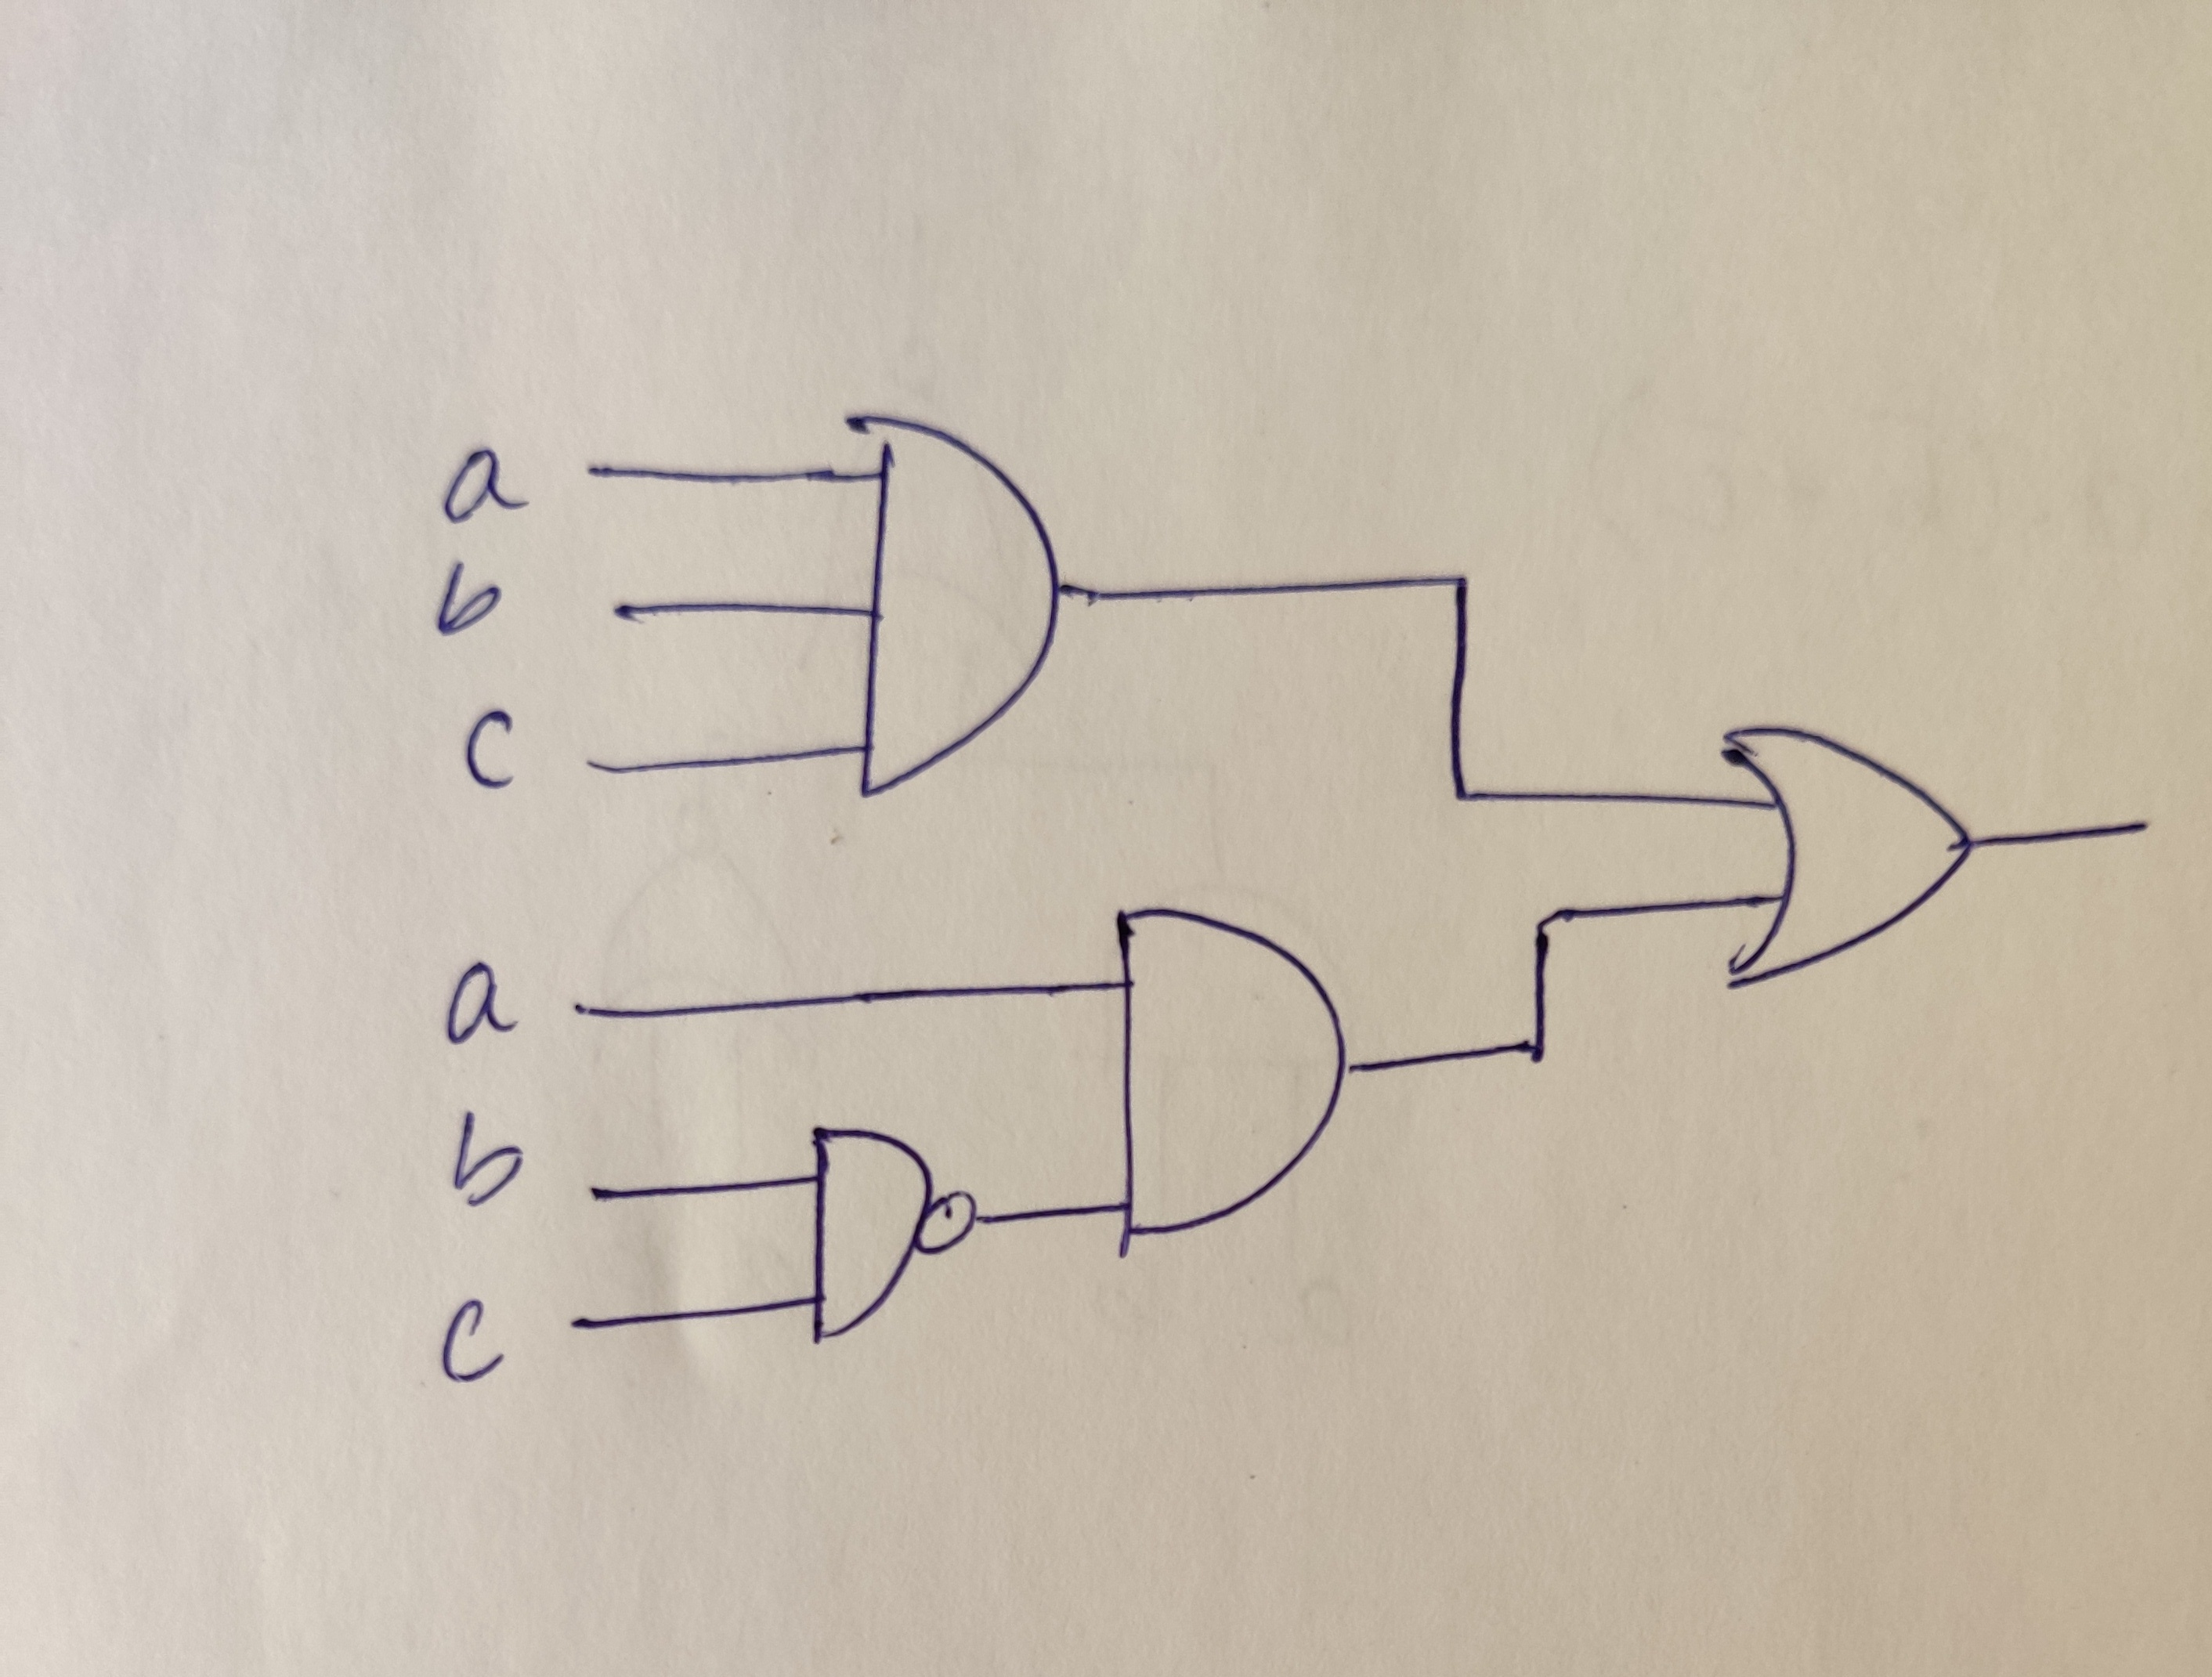and: (771, 377, 1129, 828), (1085, 877, 1375, 1288)
nand: (743, 1083, 1014, 1390)
or: (1673, 682, 2009, 1043)
